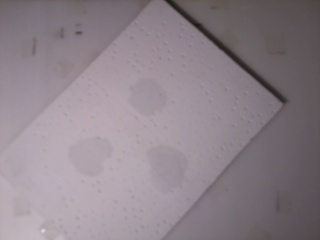Water_detected: (153, 151, 193, 191), (126, 75, 166, 114), (78, 139, 114, 170)
